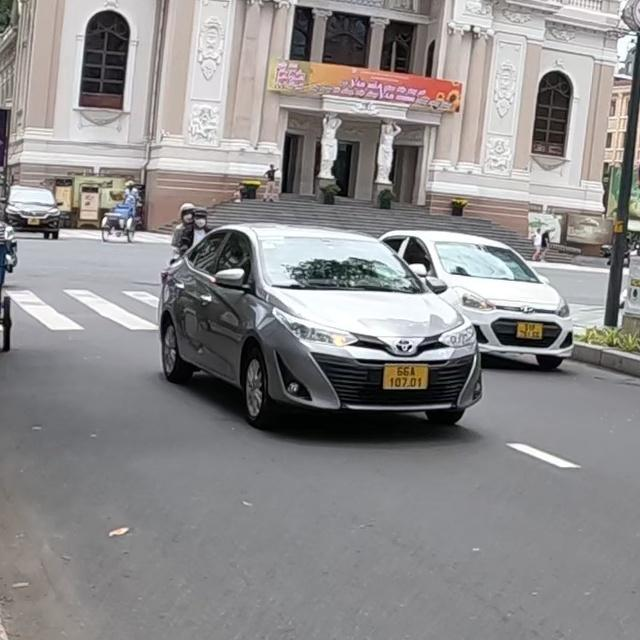car: (158, 220, 484, 445), (374, 215, 580, 372)
plate: (379, 355, 431, 395), (514, 314, 546, 344)
